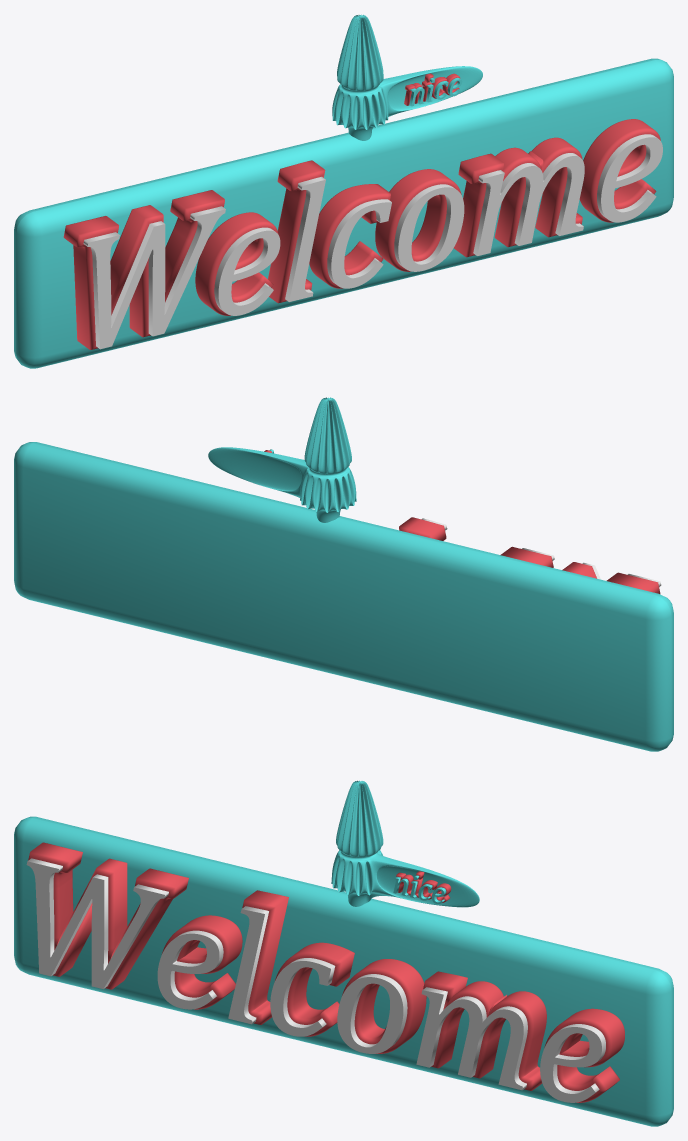
Rendered from 3d_text_model_-_welcome.glb.
The picture shows the model from 3 angles, top to bottom: view 1: azimuth 30°, elevation 25°; view 2: azimuth 150°, elevation 25°; view 3: azimuth 330°, elevation 25°; orthographic projection.
Parts seen in each view (by area): view 1: Object_10, Object_13, Object_11, Object_5, Object_4, Object_3, Object_7, Object_8, Object_14, Object_9; view 2: Object_10, Object_7, Object_13, Object_4, Object_5, Object_3, Object_9; view 3: Object_10, Object_13, Object_11, Object_5, Object_4, Object_7, Object_3, Object_14, Object_8, Object_9.
Part boxes in pixels (left/top/right/bottom): Object_10: left=14, top=58, right=673, bottom=368; Object_13: left=63, top=119, right=660, bottom=349; Object_11: left=83, top=134, right=662, bottom=349; Object_5: left=340, top=17, right=470, bottom=128; Object_4: left=332, top=15, right=453, bottom=129; Object_3: left=337, top=14, right=374, bottom=140; Object_7: left=332, top=66, right=482, bottom=128; Object_8: left=336, top=69, right=452, bottom=101; Object_14: left=404, top=73, right=460, bottom=105; Object_9: left=338, top=66, right=466, bottom=123; Object_10: left=14, top=442, right=673, bottom=751; Object_7: left=208, top=447, right=356, bottom=511; Object_13: left=399, top=517, right=660, bottom=593; Object_4: left=301, top=400, right=356, bottom=512; Object_5: left=232, top=397, right=350, bottom=509; Object_3: left=304, top=397, right=351, bottom=522; Object_9: left=224, top=447, right=338, bottom=506; Object_10: left=14, top=816, right=673, bottom=1126; Object_13: left=28, top=842, right=624, bottom=1102; Object_11: left=26, top=858, right=605, bottom=1102; Object_5: left=334, top=782, right=465, bottom=906; Object_4: left=331, top=780, right=448, bottom=895; Object_7: left=331, top=842, right=479, bottom=907; Object_3: left=336, top=781, right=383, bottom=906; Object_14: left=396, top=871, right=451, bottom=902; Object_8: left=336, top=845, right=448, bottom=879; Object_9: left=341, top=849, right=463, bottom=890.
Bounding box in the file's own units: 3.18 × 1.26 × 0.3722.
